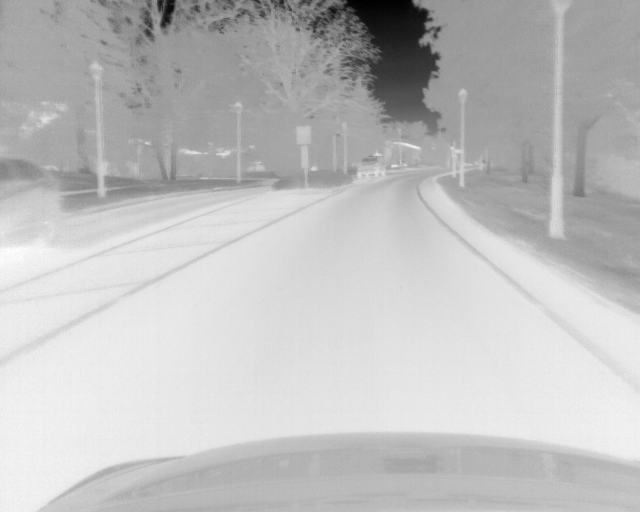car: (1, 156, 64, 243), (357, 156, 387, 176)
